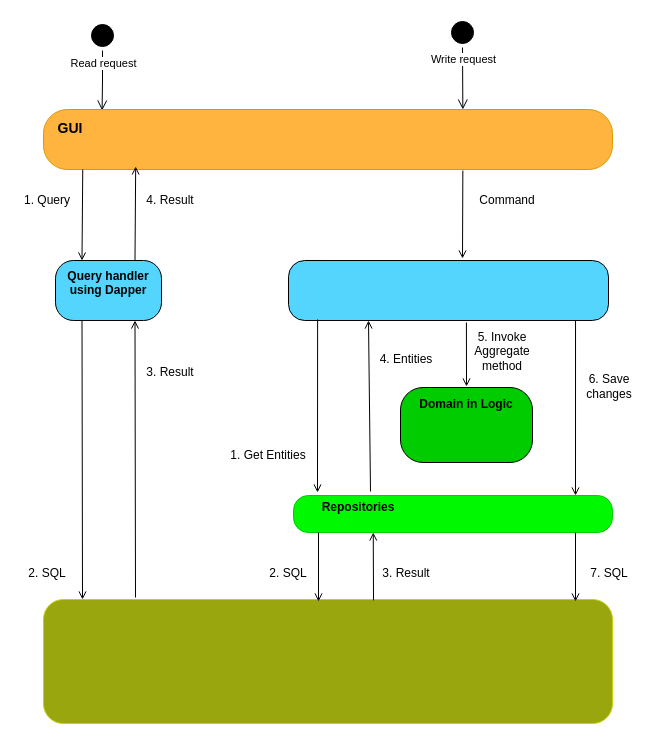
Some shapes in this 656 by 741 pixel diagram are drawn without their labels. Each missing label, with the box of its shape:
Command handler using DDD and EF: (288, 260, 608, 320)
Database: (42, 598, 612, 724)
